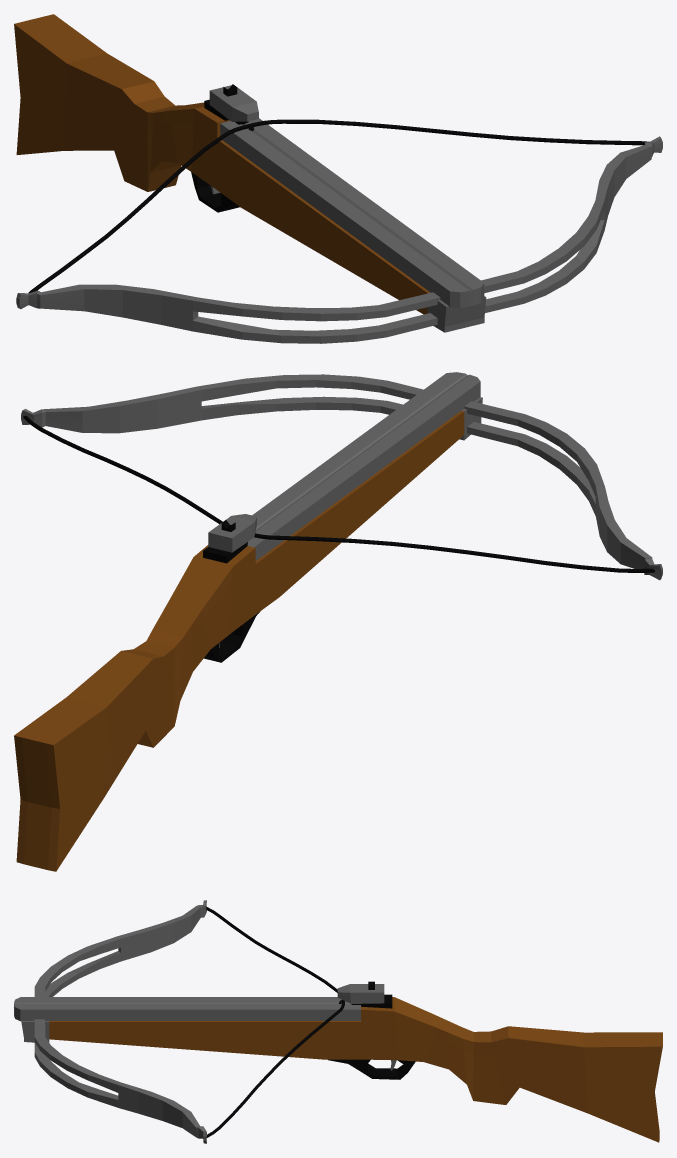
The model's file is Crossbow.fbx.
The picture shows the model from 3 angles, top to bottom: view 1: azimuth 30°, elevation 25°; view 2: azimuth 150°, elevation 25°; view 3: azimuth 270°, elevation 25°; orthographic projection. The views are drawn at different scales.
Visible parts, largest first — view 1: Crossbow; view 2: Crossbow; view 3: Crossbow.
Boxes of the visible parts, x1,y1,x2,y2 form: Crossbow: (14, 14, 662, 343); Crossbow: (14, 372, 662, 871); Crossbow: (14, 900, 662, 1143).
Size of the model in its own units: 70.3 by 21.37 by 82.56.
